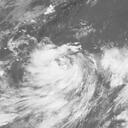cyclone: (37, 44, 107, 102)
